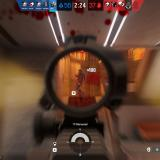Character: (74, 69, 87, 98)
Head: (78, 70, 82, 74)
